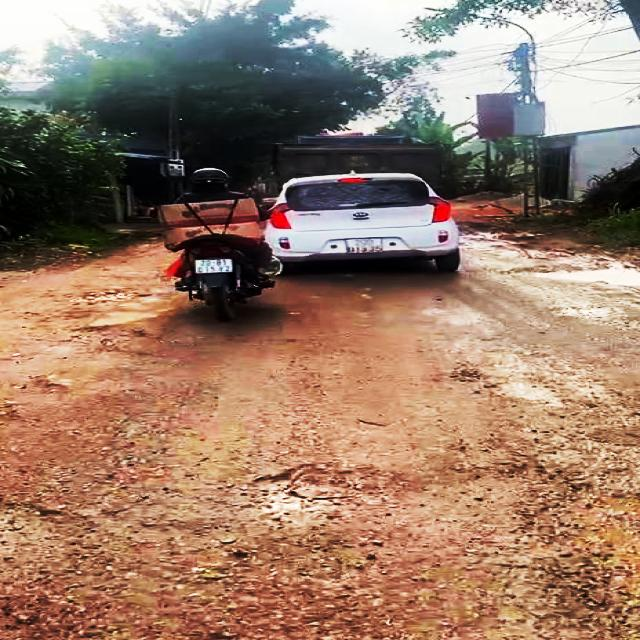pothole: (523, 485, 640, 632), (251, 465, 359, 523), (50, 318, 153, 363), (506, 262, 640, 290), (69, 287, 164, 304)
